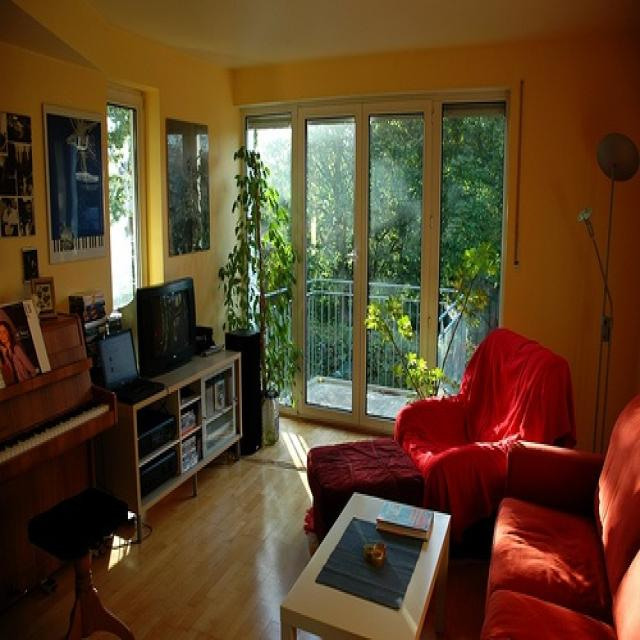chair: (394, 327, 575, 521)
sofa: (485, 390, 639, 638)
tvmonitor: (138, 279, 205, 367)
